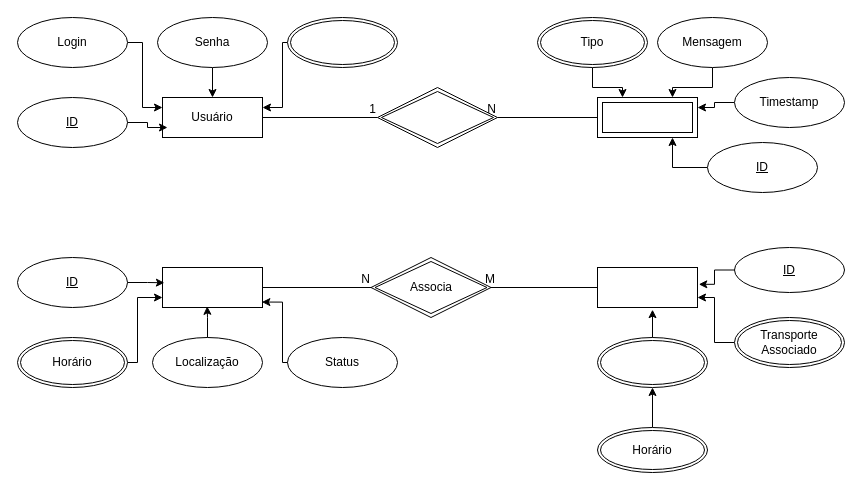
The diagram is 862 pixels wide and 490 high, and some of its shapes have lost their labels. Each missing label, with the box of its shape:
E-mail: (286, 16, 398, 68)
Notificação: (596, 96, 698, 138)
Ponto de Parada: (596, 336, 708, 388)
Possui: (376, 86, 498, 148)
Rota: (596, 266, 698, 308)
Transporte: (162, 266, 262, 308)
